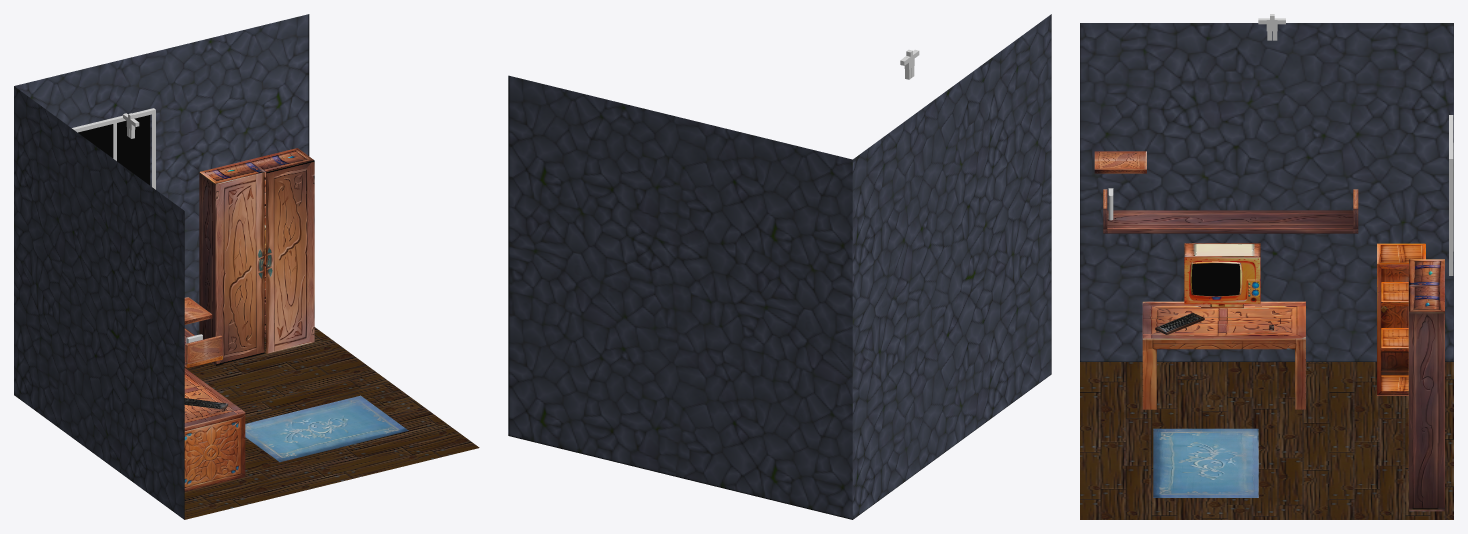
The model's file is NewthreeJsScene.glb.
The picture shows the model from 3 angles, left to right: view 1: azimuth 30°, elevation 25°; view 2: azimuth 150°, elevation 25°; view 3: azimuth 270°, elevation 25°; orthographic projection. The views are drawn at different scales.
Parts seen in each view (by area): view 1: Walls.002, Floor.002, RightDoor.004, LeftDoor.004, Carpet.002, Table.003, Wardrobe.002, Glass.003, Floating_Shelf.002, Frame.004; view 2: Walls.002; view 3: Walls.002, Floor.002, Wardrobe.002, Table.003, Carpet.002, Floating_Shelf.002, BookShelf.002, Monitor.002, Shelf.002, Frame.004, Keyboard.004.
Part boxes in pixels (<box>): Walls.002: <box>14,14,309,519</box>; Floor.002: <box>184,327,479,519</box>; RightDoor.004: <box>215,172,264,365</box>; LeftDoor.004: <box>266,160,314,353</box>; Carpet.002: <box>245,395,408,462</box>; Table.003: <box>184,368,245,491</box>; Wardrobe.002: <box>199,148,313,365</box>; Glass.003: <box>78,115,150,185</box>; Floating_Shelf.002: <box>184,328,222,367</box>; Frame.004: <box>72,108,155,189</box>; Walls.002: <box>508,14,1051,519</box>; Walls.002: <box>1080,23,1453,361</box>; Floor.002: <box>1080,362,1453,519</box>; Wardrobe.002: <box>1409,259,1444,511</box>; Table.003: <box>1142,301,1305,409</box>; Carpet.002: <box>1153,428,1258,497</box>; Floating_Shelf.002: <box>1103,189,1358,233</box>; BookShelf.002: <box>1377,243,1425,395</box>; Monitor.002: <box>1184,243,1260,308</box>; Shelf.002: <box>1094,151,1146,173</box>; Frame.004: <box>1449,115,1453,275</box>; Keyboard.004: <box>1155,313,1204,334</box>.
Bounding box in the file's own units: 161 × 174 × 161.
Materials: 3 (3 with a texture image).
